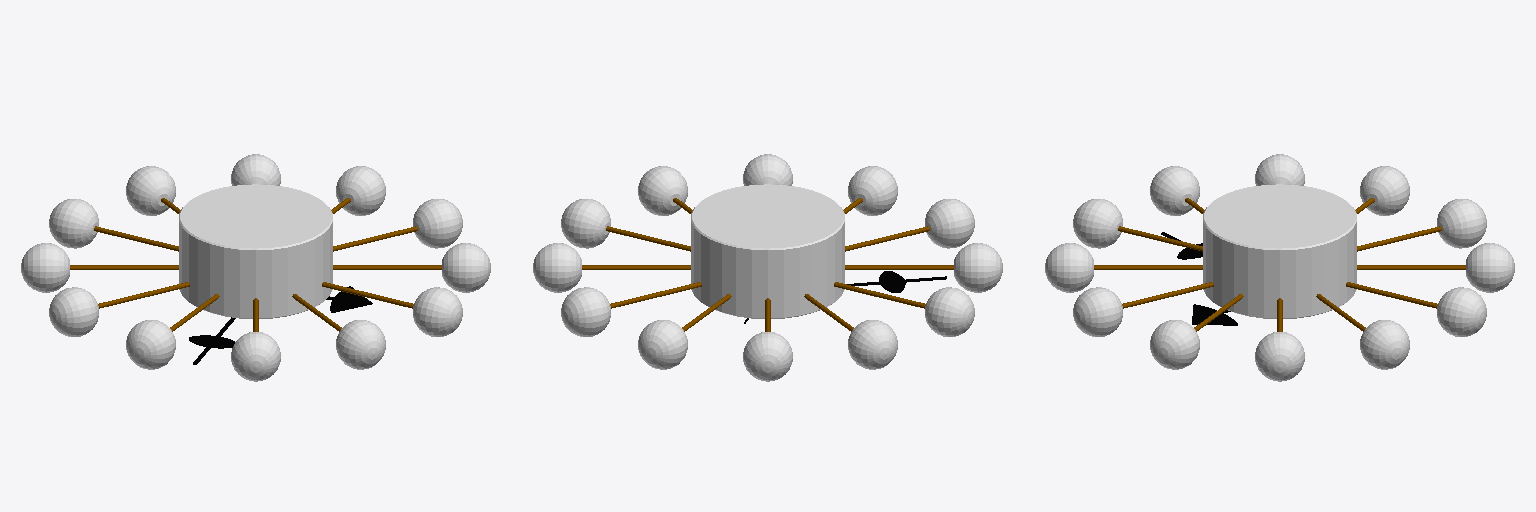
The model's file is vitra_ball_clock_mat(3).obj.
3 views of the same model, side by side, from view 1: azimuth 30°, elevation 25°; view 2: azimuth 150°, elevation 25°; view 3: azimuth 270°, elevation 25° (orthographic).
Visible parts, largest first — view 1: vitra_ball_clock_mat3; view 2: vitra_ball_clock_mat3; view 3: vitra_ball_clock_mat3.
Boxes of the visible parts, box(x1,y1,x2,y2) form: vitra_ball_clock_mat3: box(21, 154, 490, 381); vitra_ball_clock_mat3: box(533, 154, 1002, 381); vitra_ball_clock_mat3: box(1045, 154, 1514, 381).
Size of the model in its own units: 33.15 by 6.15 by 33.15.